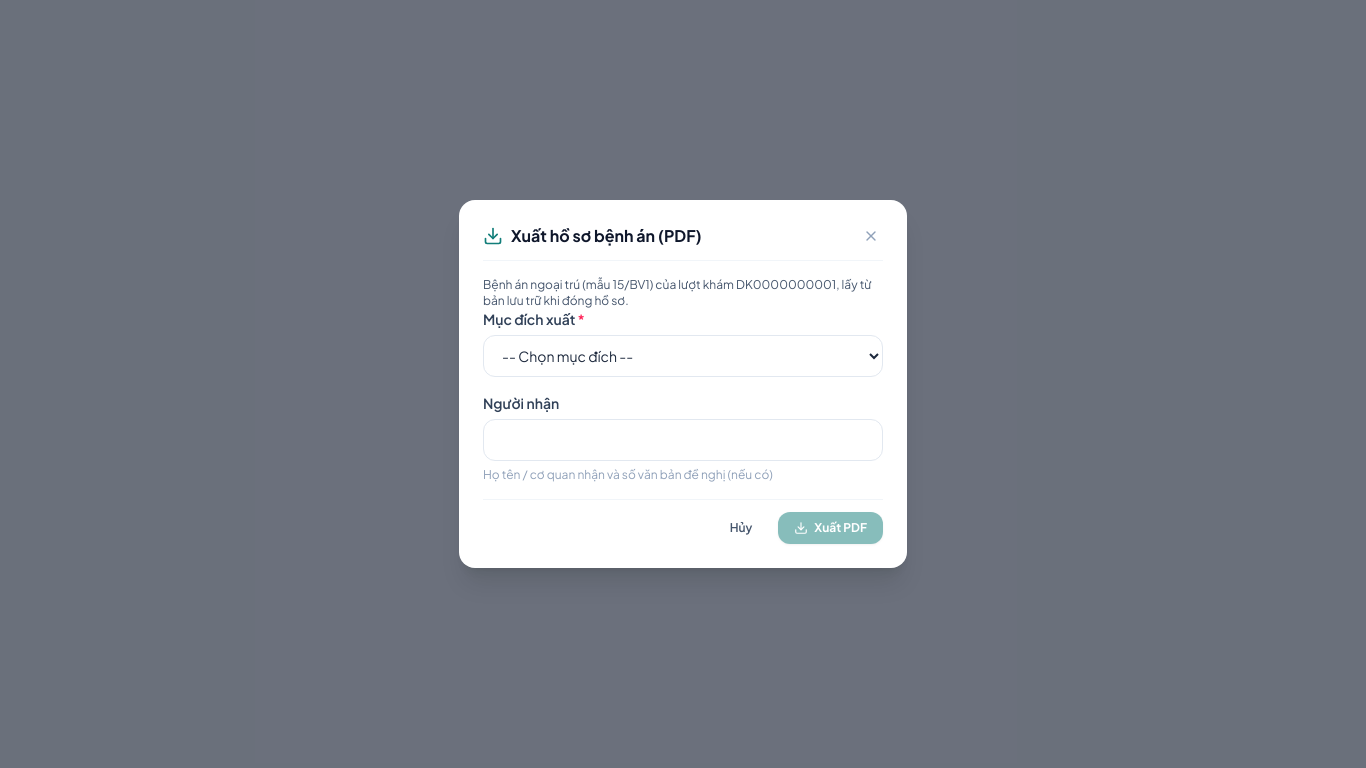
ExportMedicalRecordDialog (UC-53) › shows MSG131 for a record that is not closed and MSG80 for a failed export
Select "Lưu trữ" in the dropdown labelled "Mục đích xuất*": x=683, y=356 [483,335,883,377]
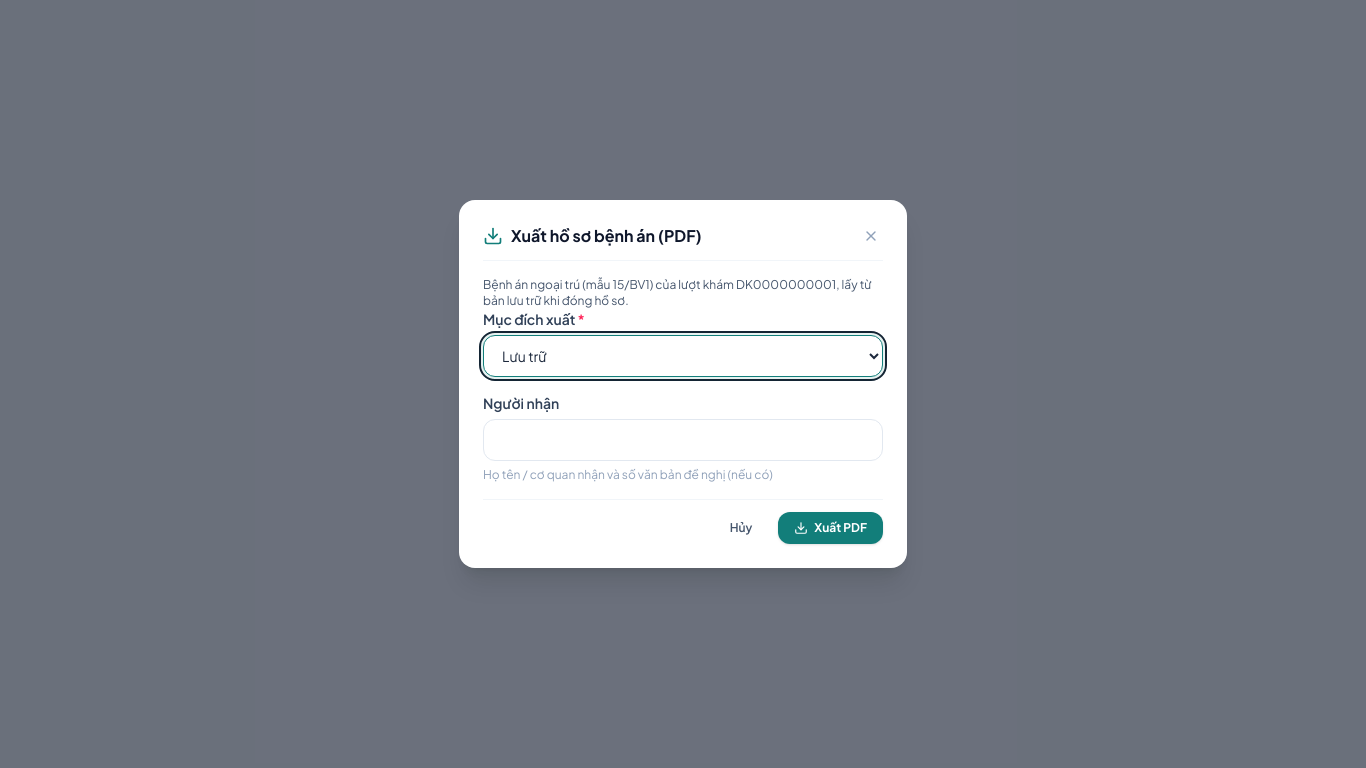
Click the button "Xuất PDF": x=831, y=528 [778,512,883,544]
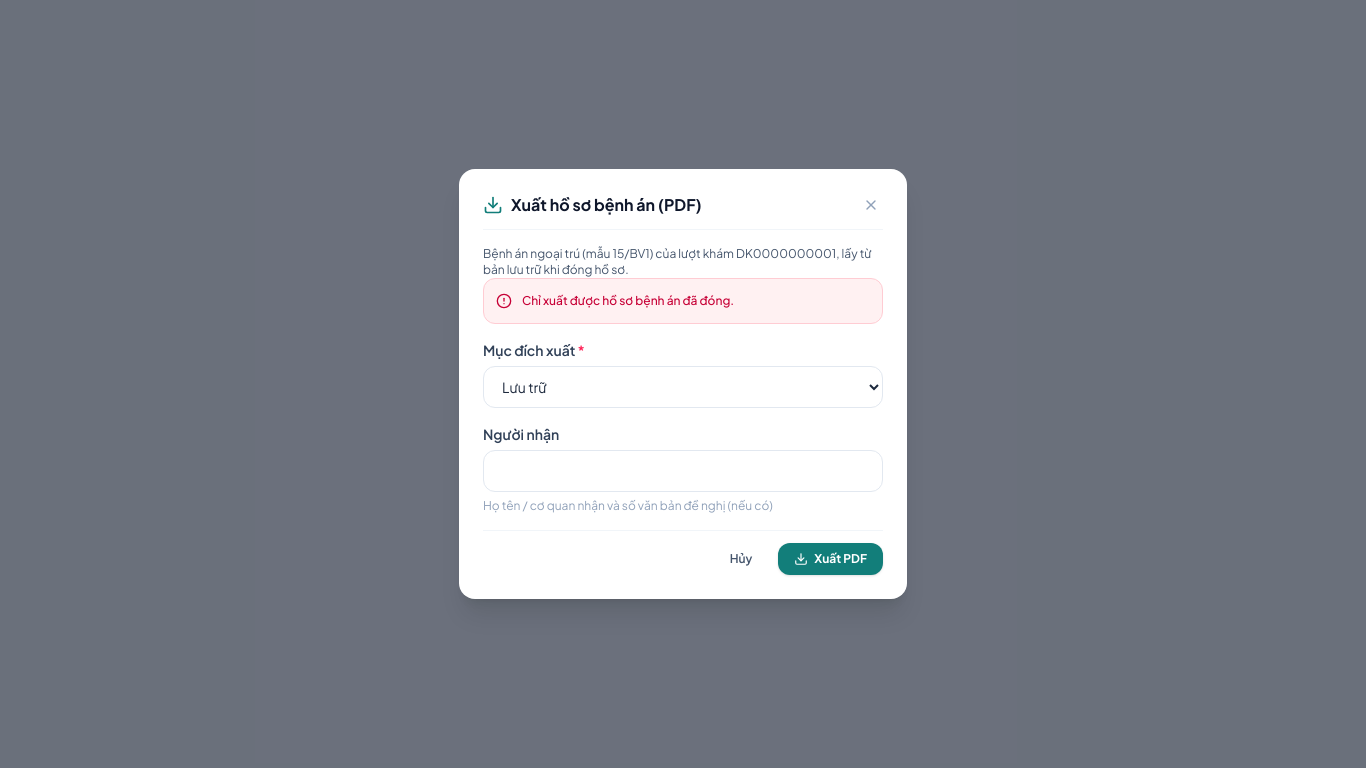
Expected: the message reads "Chỉ xuất được hồ sơ bệnh án đã đóng.", [522,293,734,308]
Click the button "Xuất PDF": x=831, y=559 [778,543,883,575]
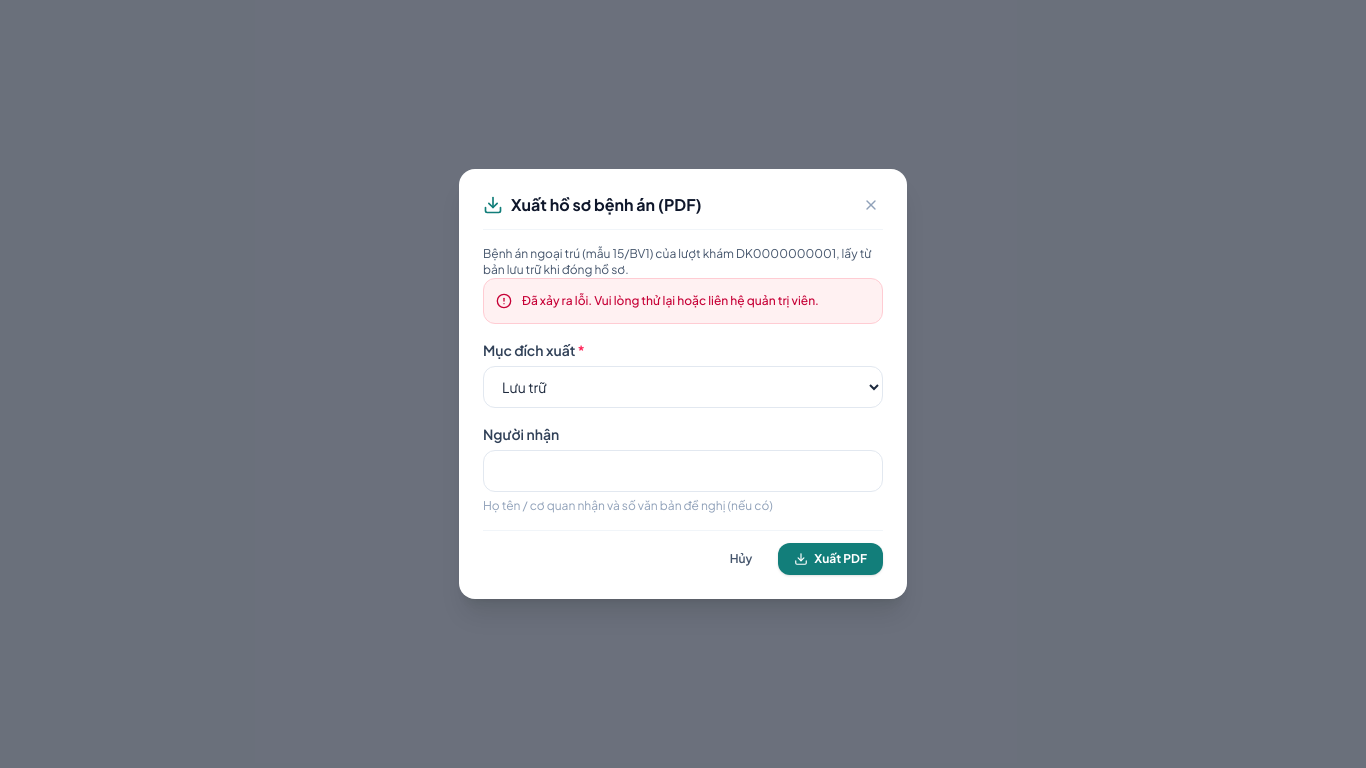
Expected: the message reads "Đã xảy ra lỗi. Vui lòng thử lại hoặc liên hệ quản trị viên.", [522,293,819,308]
